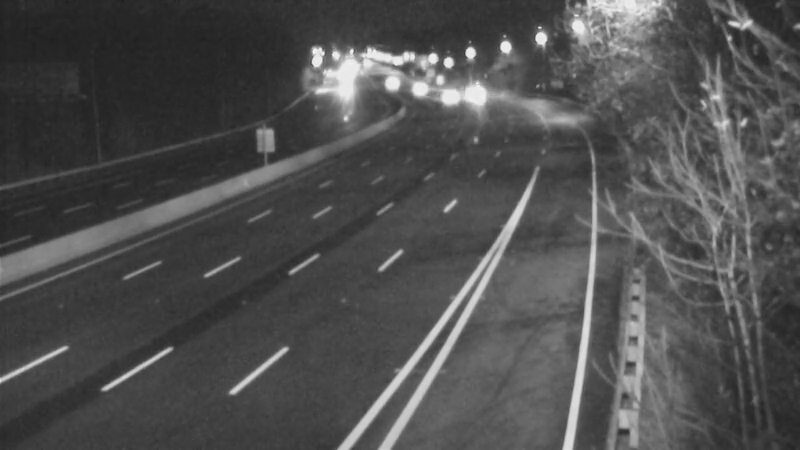vehicle: (363, 55, 413, 105), (392, 61, 442, 111), (420, 69, 470, 119), (444, 67, 494, 117)
